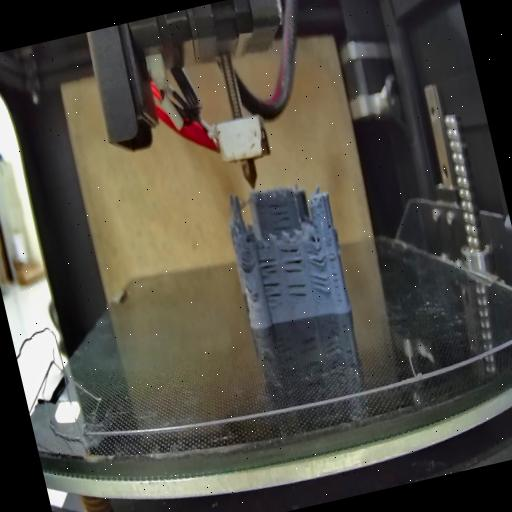cracks: (256, 258, 287, 308), (326, 250, 348, 308), (302, 230, 328, 272), (278, 242, 308, 278), (266, 198, 294, 234), (284, 280, 311, 304), (310, 272, 332, 299), (238, 256, 254, 276), (325, 217, 337, 237), (243, 281, 256, 295)
